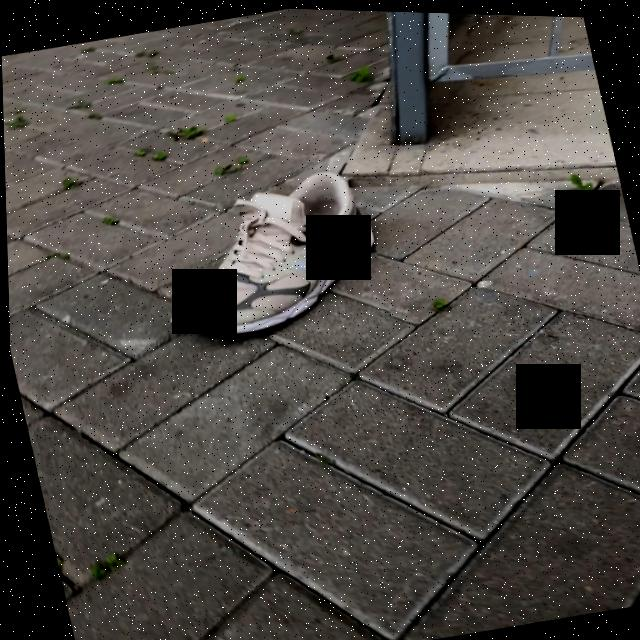shoe: (175, 168, 374, 338)
